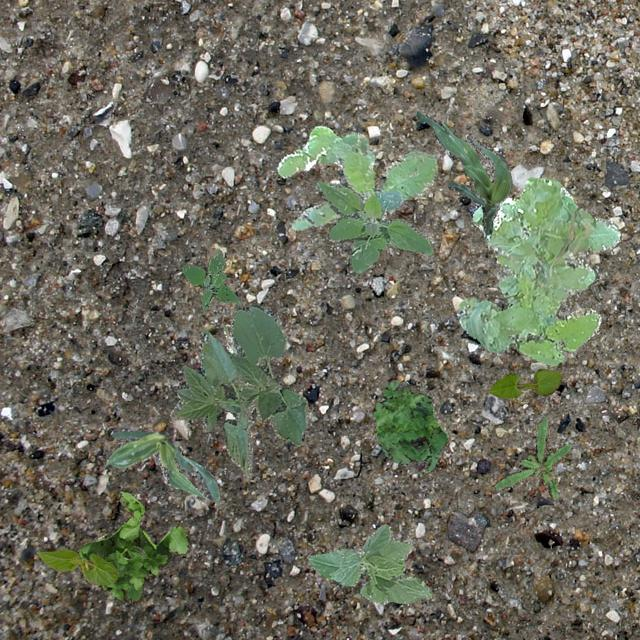crop: (168, 304, 308, 476), (414, 110, 512, 233), (308, 522, 430, 604), (104, 428, 218, 500), (36, 548, 118, 584), (488, 368, 562, 397)
weed: (456, 176, 620, 364), (276, 124, 436, 230), (76, 490, 188, 602), (314, 180, 432, 272), (372, 378, 446, 472), (494, 416, 572, 498), (180, 248, 240, 308), (222, 324, 236, 354)
